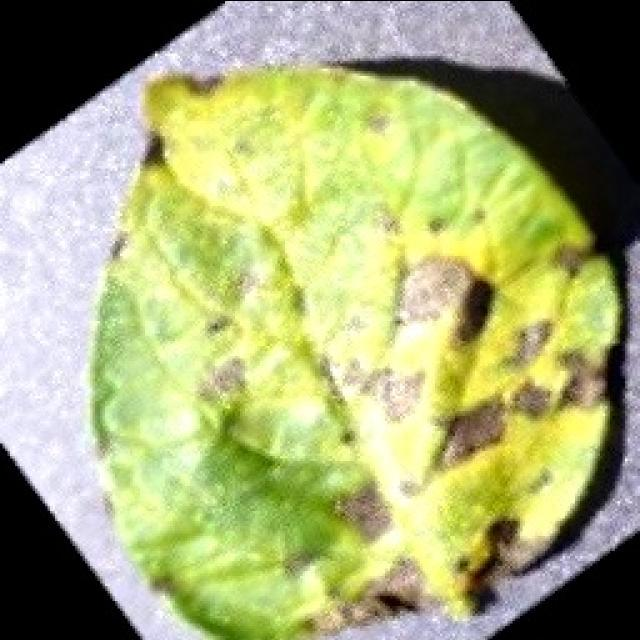leaves: (76, 55, 629, 640)
